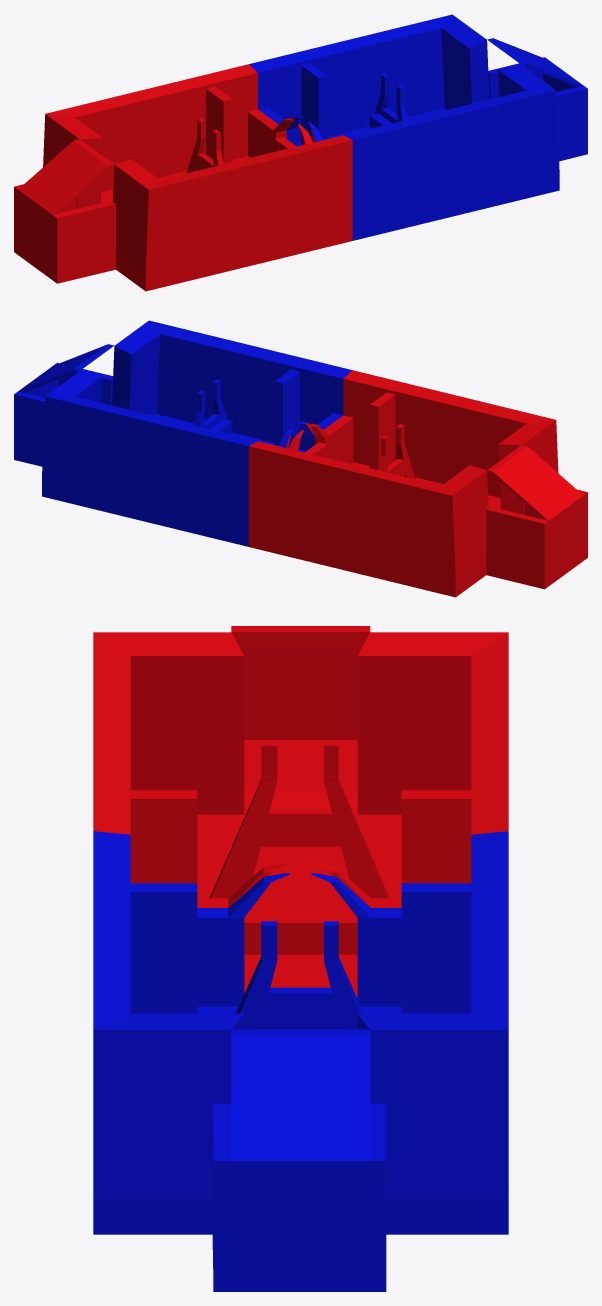
The model's file is Cap the flag Map 2.fbx.
3 renders of one model, top to bottom at view 1: azimuth 30°, elevation 25°; view 2: azimuth 150°, elevation 25°; view 3: azimuth 270°, elevation 25°, orthographic. The views are drawn at different scales.
Parts seen in each view (by area): view 1: Cube, Cube.001; view 2: Cube, Cube.001; view 3: Cube.001, Cube.
Boxes of the visible parts, x1,y1,x2,y2 form: Cube: (14, 64, 352, 291); Cube.001: (249, 14, 587, 240); Cube: (248, 370, 587, 597); Cube.001: (14, 320, 352, 546); Cube.001: (93, 831, 508, 1291); Cube: (93, 626, 508, 996).
Size of the model in its own units: 6809 by 1238 by 2307.
